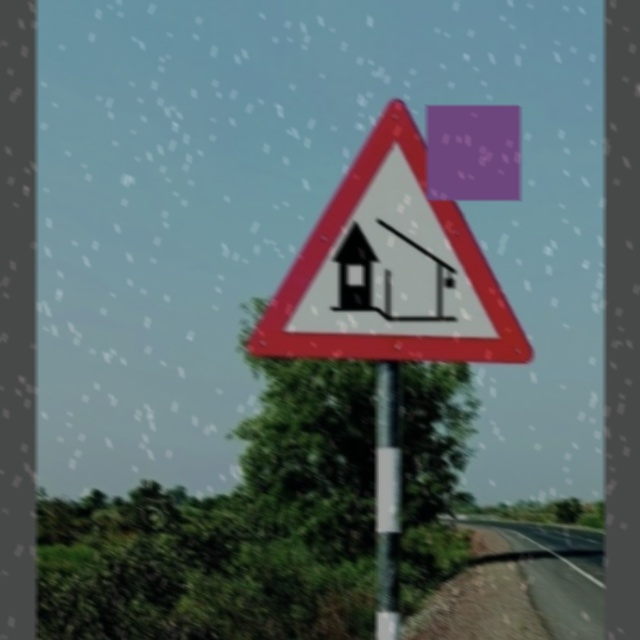Barrier_Ahead: (248, 101, 535, 368)
